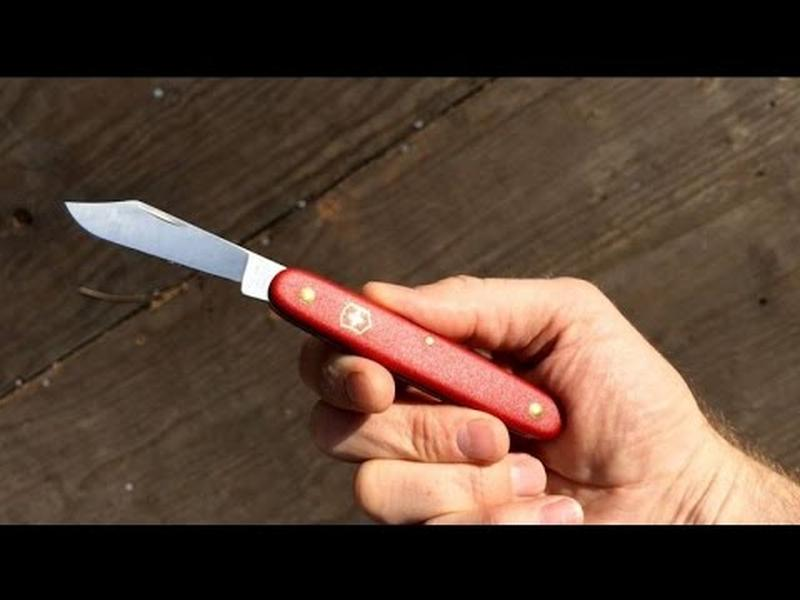KNIFE: (57, 194, 570, 454)
